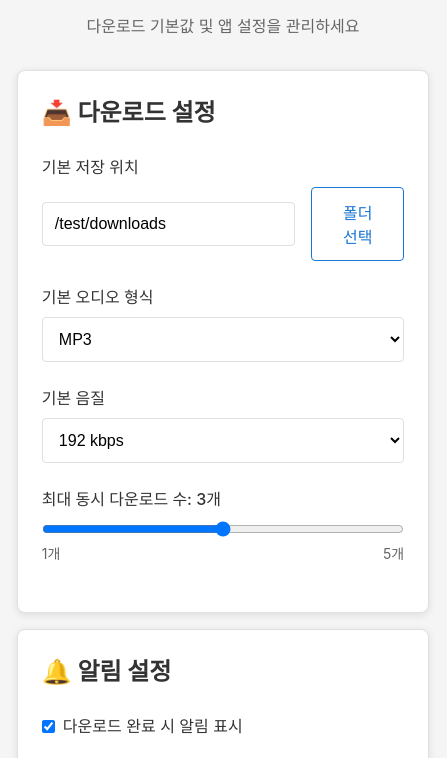
Test: Task 4.3 SettingsView UI Functionality › Loading and Disabled States › should show saving indicator
// Trigger a save
Select "WAV" in the dropdown labelled "기본 오디오 형식" at (223, 340), box [42,317,404,362]
(page scrolled)
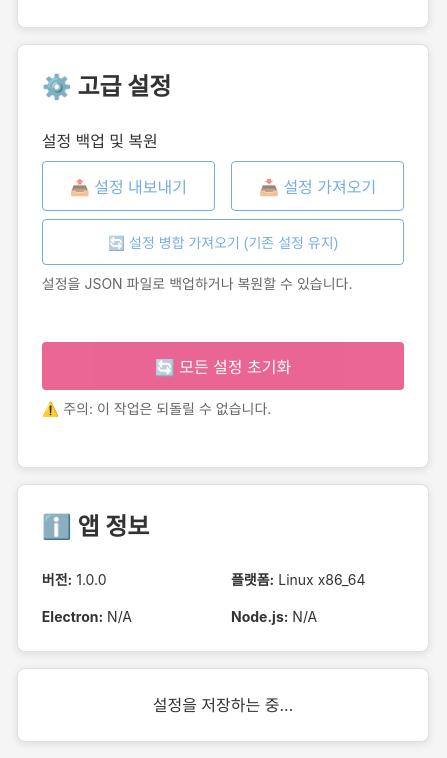
Expected: the text "설정을 저장하는 중..." is shown, [153,695,293,715]
